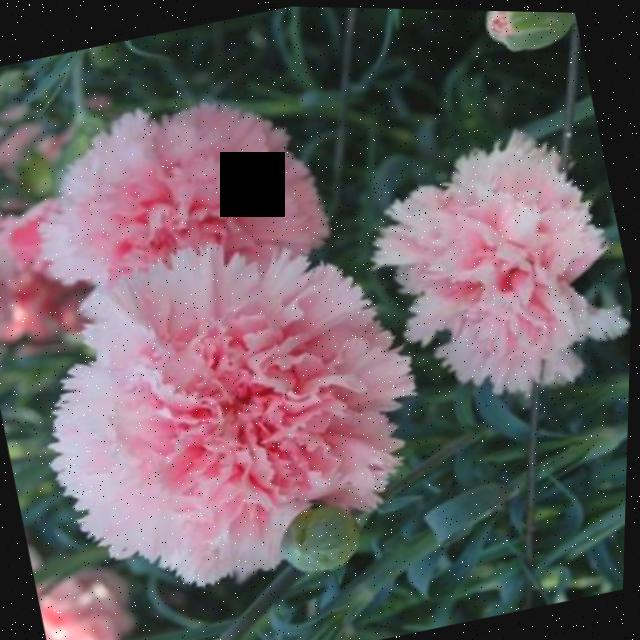carnation: (15, 194, 438, 640)
